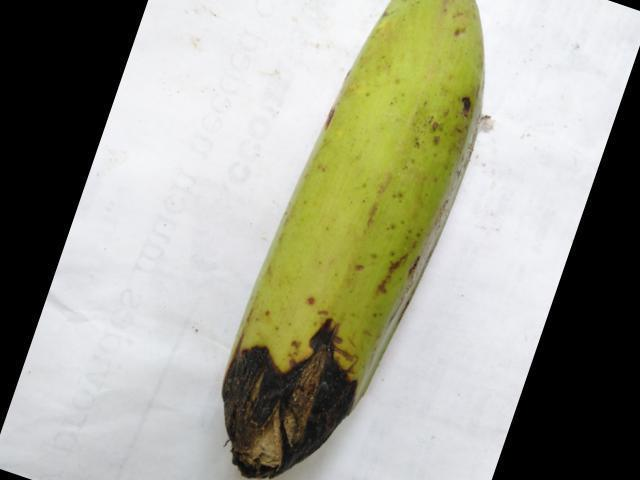rotten: (185, 293, 390, 479)
